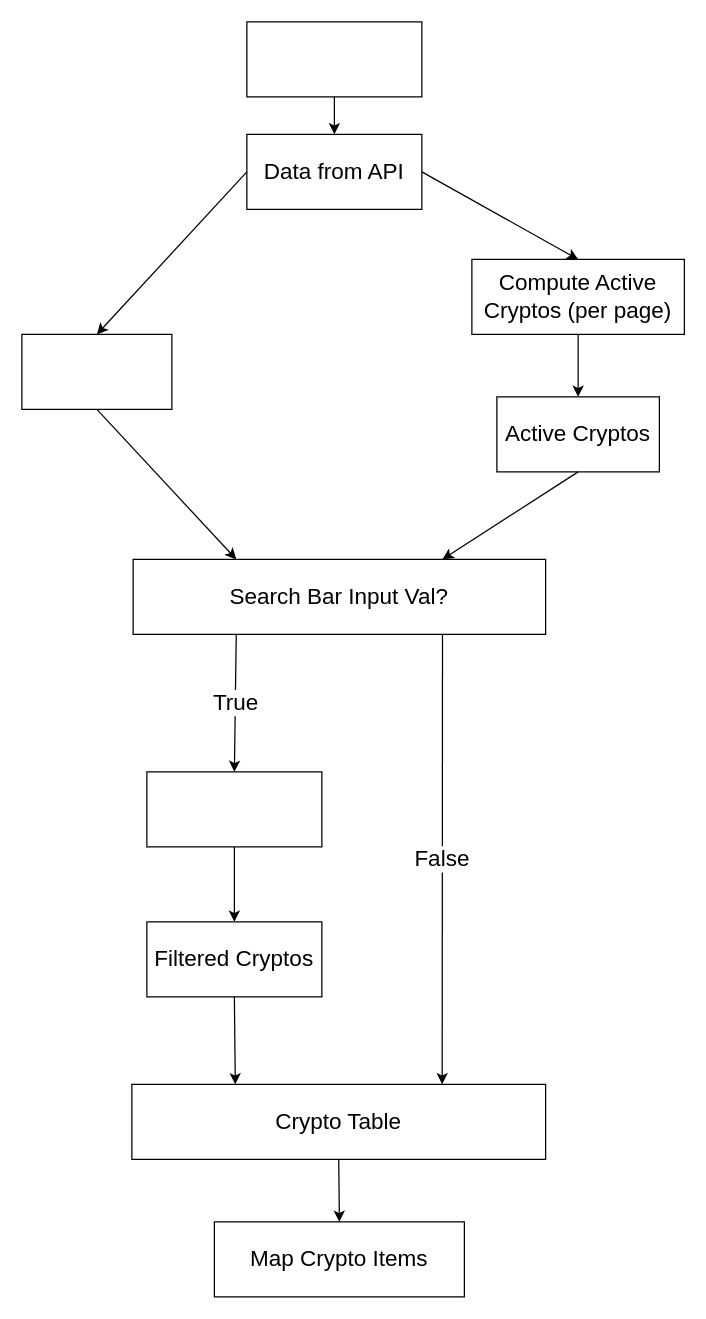
The diagram is 706 pixels wide and 1319 high, and some of its shapes have lost their labels. The shapes that lost their labels are listed below. From the top down, each one's centre as x and y in pixels, then its label:
At point 334,59: "AJAX Request".
At point 96,371: "Cyptos".
At point 234,809: "Filter Cryptos".
